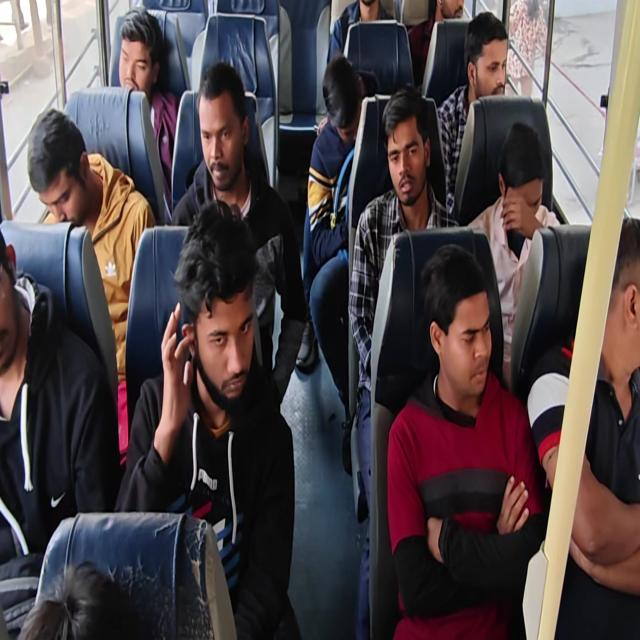person: (176, 207, 276, 420), (418, 236, 517, 447), (18, 538, 146, 640), (21, 83, 92, 253), (191, 52, 256, 197), (383, 72, 439, 231), (1, 219, 36, 401), (498, 125, 549, 248), (603, 208, 640, 371), (317, 45, 369, 147), (466, 17, 517, 106), (110, 8, 159, 100), (434, 2, 479, 27), (356, 2, 390, 24)
